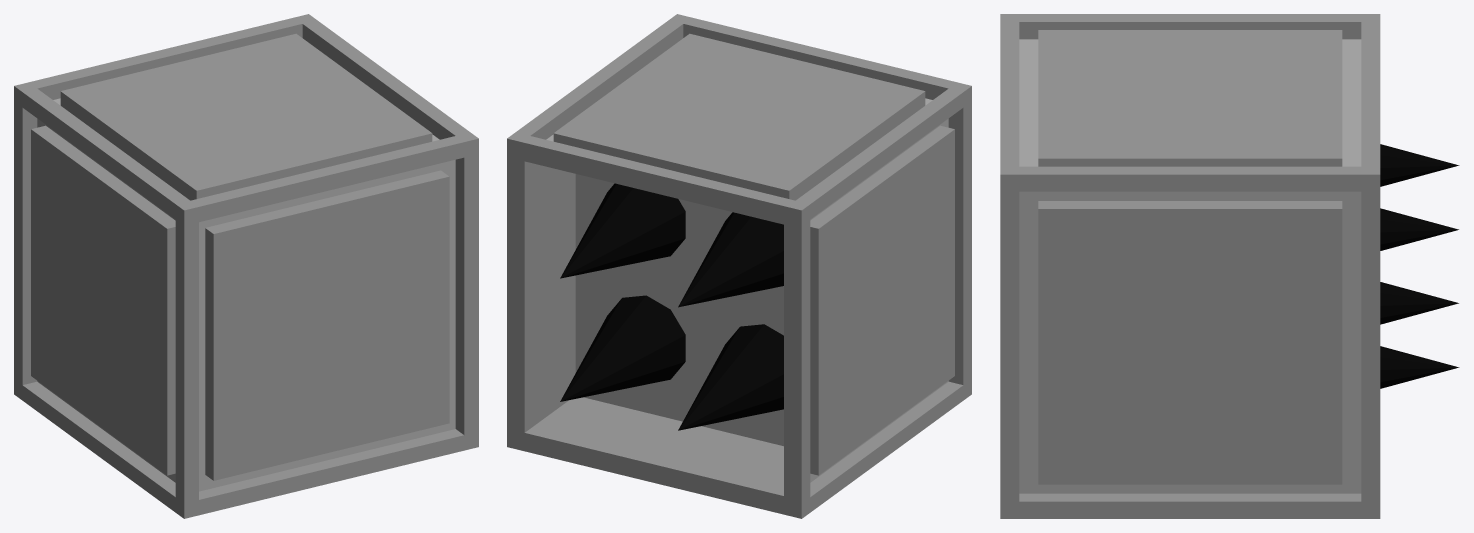
File: stone_tile3.fbx
The picture shows the model from 3 angles, left to right: view 1: azimuth 30°, elevation 25°; view 2: azimuth 150°, elevation 25°; view 3: azimuth 270°, elevation 25°; orthographic projection. The views are drawn at different scales.
Visible parts, largest first — view 1: Mesh; view 2: Mesh; view 3: Mesh.
Part boxes in pixels (x1,y1,x2,y2): Mesh: (14,14,478,518); Mesh: (507,14,971,518); Mesh: (1000,14,1459,518).
Size of the model in its own units: 1 by 1 by 1.21.
